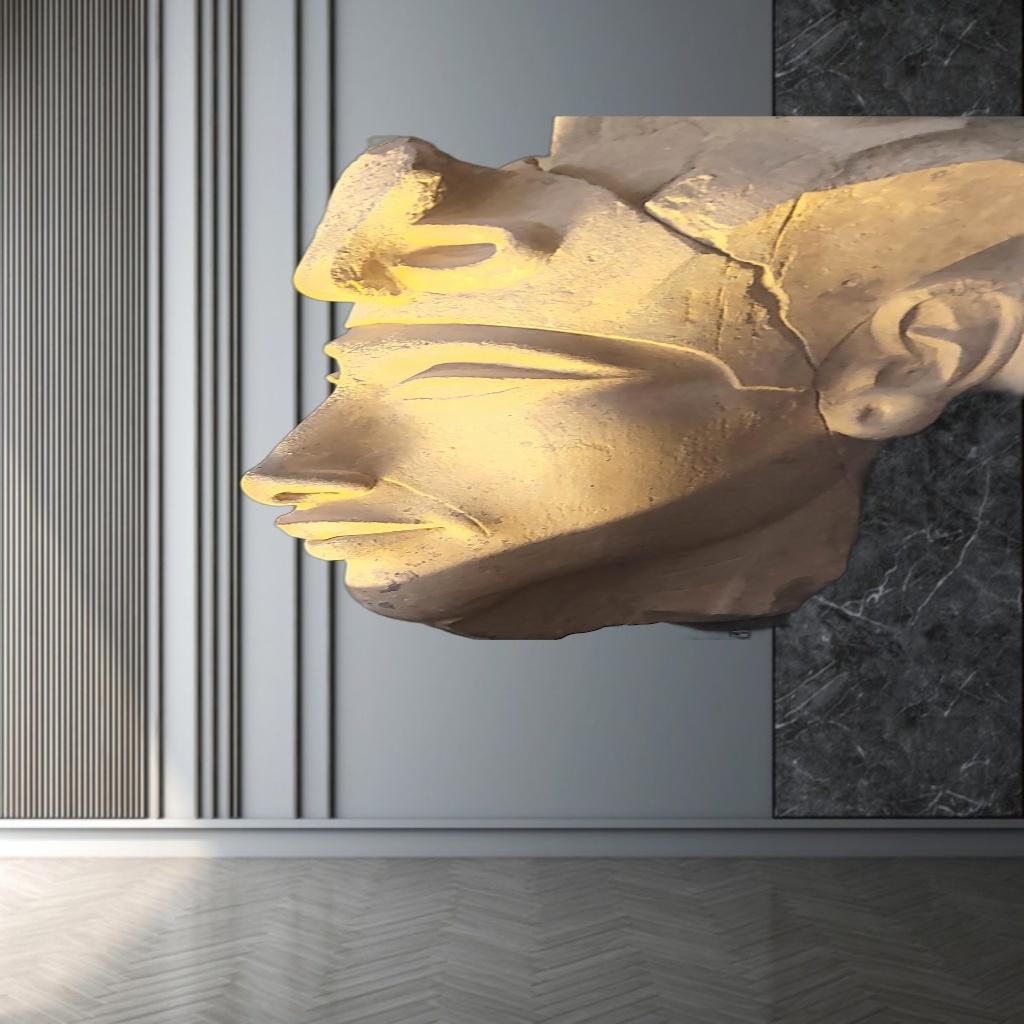Statue Head of Akhenaten: (228, 116, 1024, 640)
